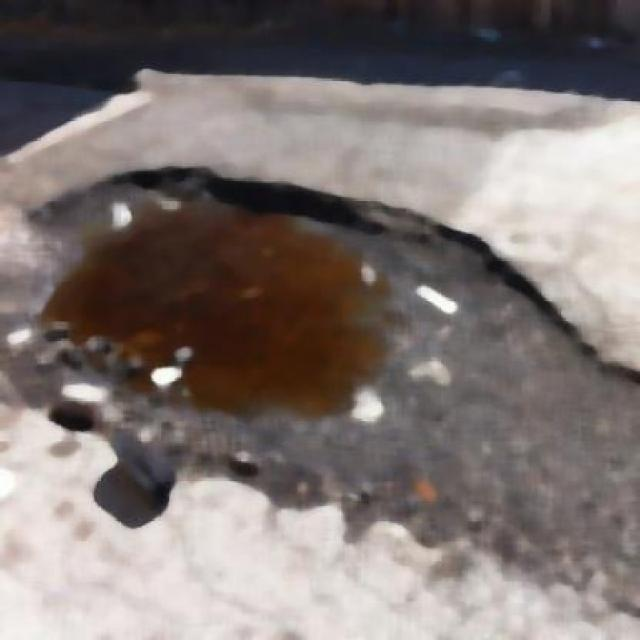Pothole: (58, 166, 396, 452)
